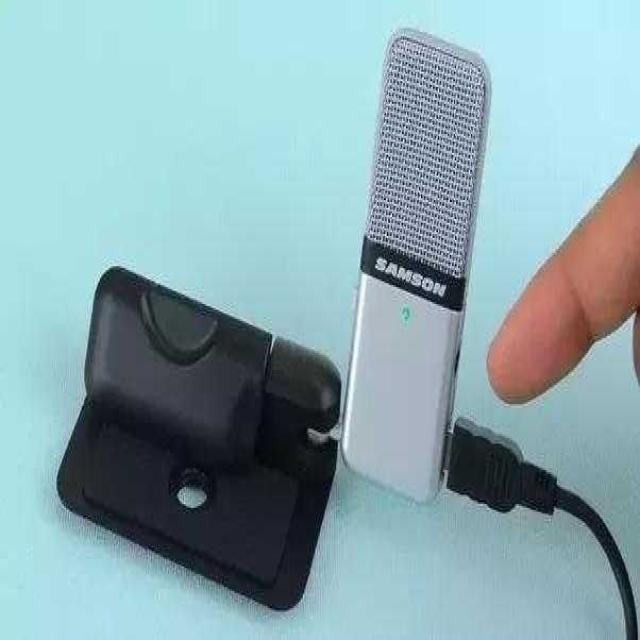microphone: (339, 26, 495, 506)
